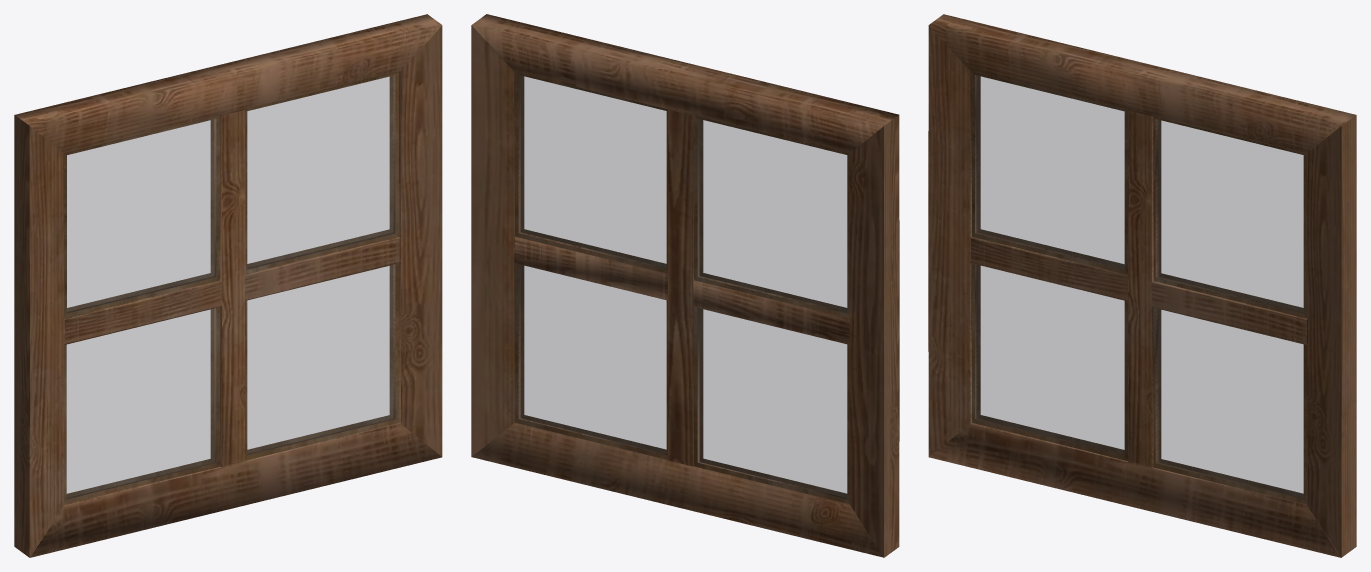
The model's file is window_1_1_processed.glb.
3 views of the same model, side by side, from view 1: azimuth 30°, elevation 25°; view 2: azimuth 150°, elevation 25°; view 3: azimuth 330°, elevation 25° (orthographic).
Parts seen in each view (by area): view 1: pCube9 (×4); view 2: pCube9 (×4); view 3: pCube9 (×4).
Boxes of the visible parts, left/top/right/bottom form: pCube9 (×4): left=14, top=14, right=442, bottom=557; pCube9 (×4): left=471, top=14, right=899, bottom=557; pCube9 (×4): left=928, top=14, right=1356, bottom=557.
Size of the model in its own units: 65534 by 65534 by 4280.
Materials: 4 (3 with a texture image).
